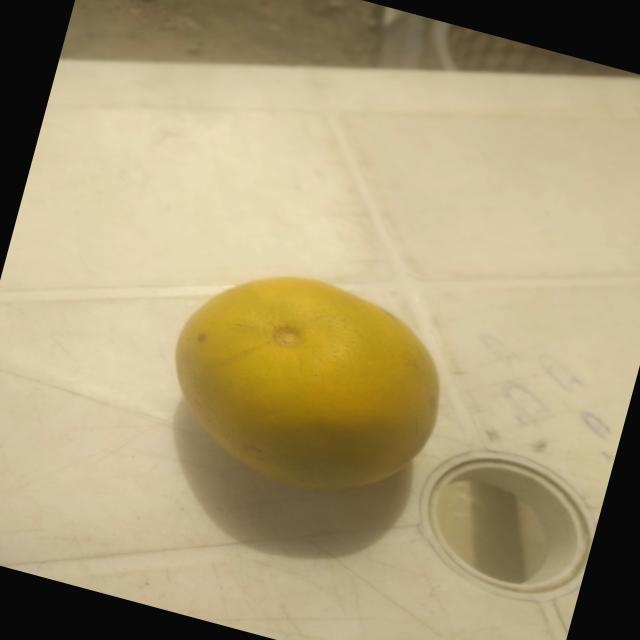agrume: (149, 248, 468, 520)
